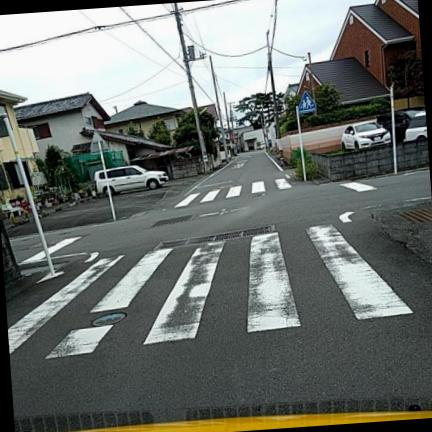Road: (7, 151, 431, 421)
